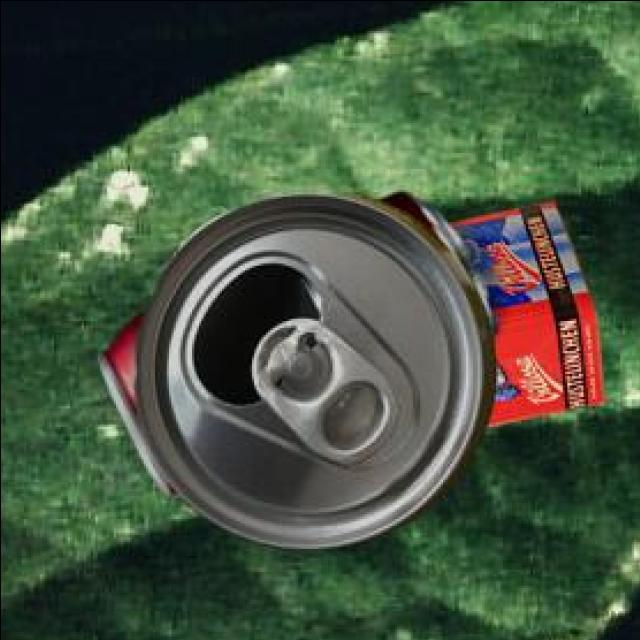logam: (137, 195, 498, 551), (241, 195, 501, 340), (452, 204, 607, 429), (100, 269, 241, 501)
